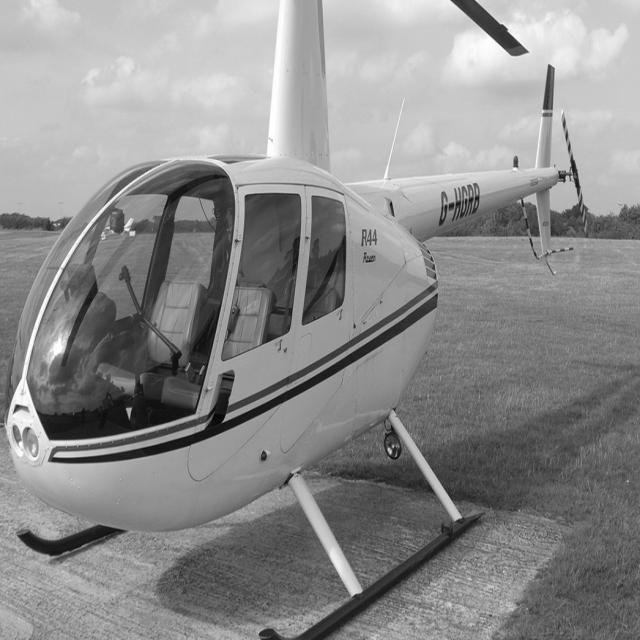helicopter: (1, 1, 601, 639)
